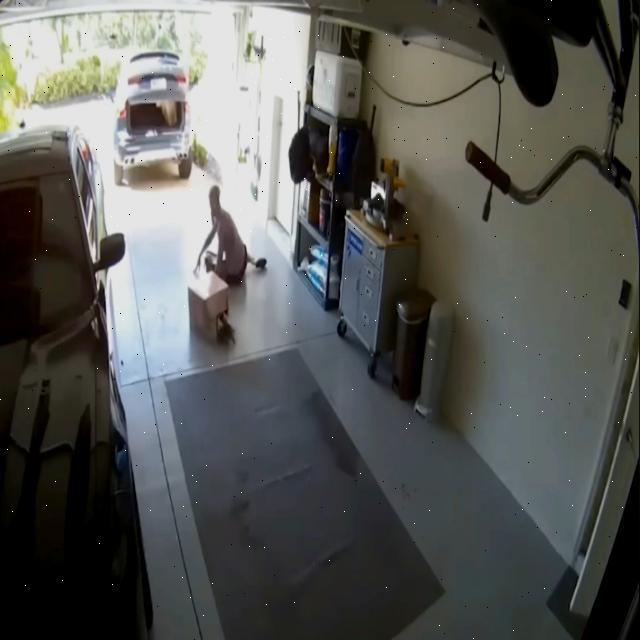fallen: (194, 185, 266, 286)
